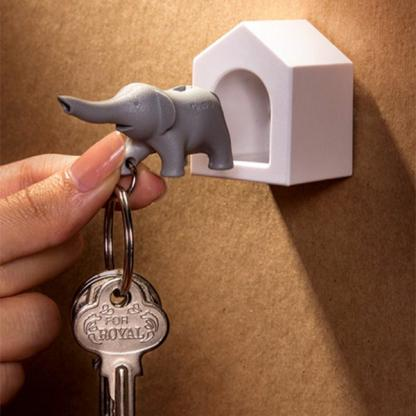key: (73, 274, 165, 412)
